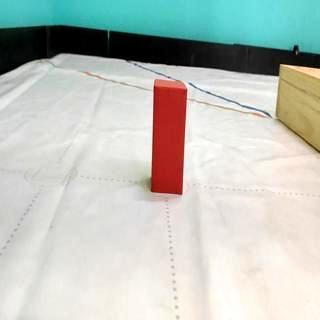redbox: (151, 80, 187, 196)
